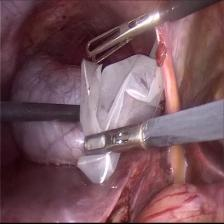Grasper: (85, 15, 150, 66), (80, 123, 146, 158)
Specimen Bag: (77, 60, 176, 184)
